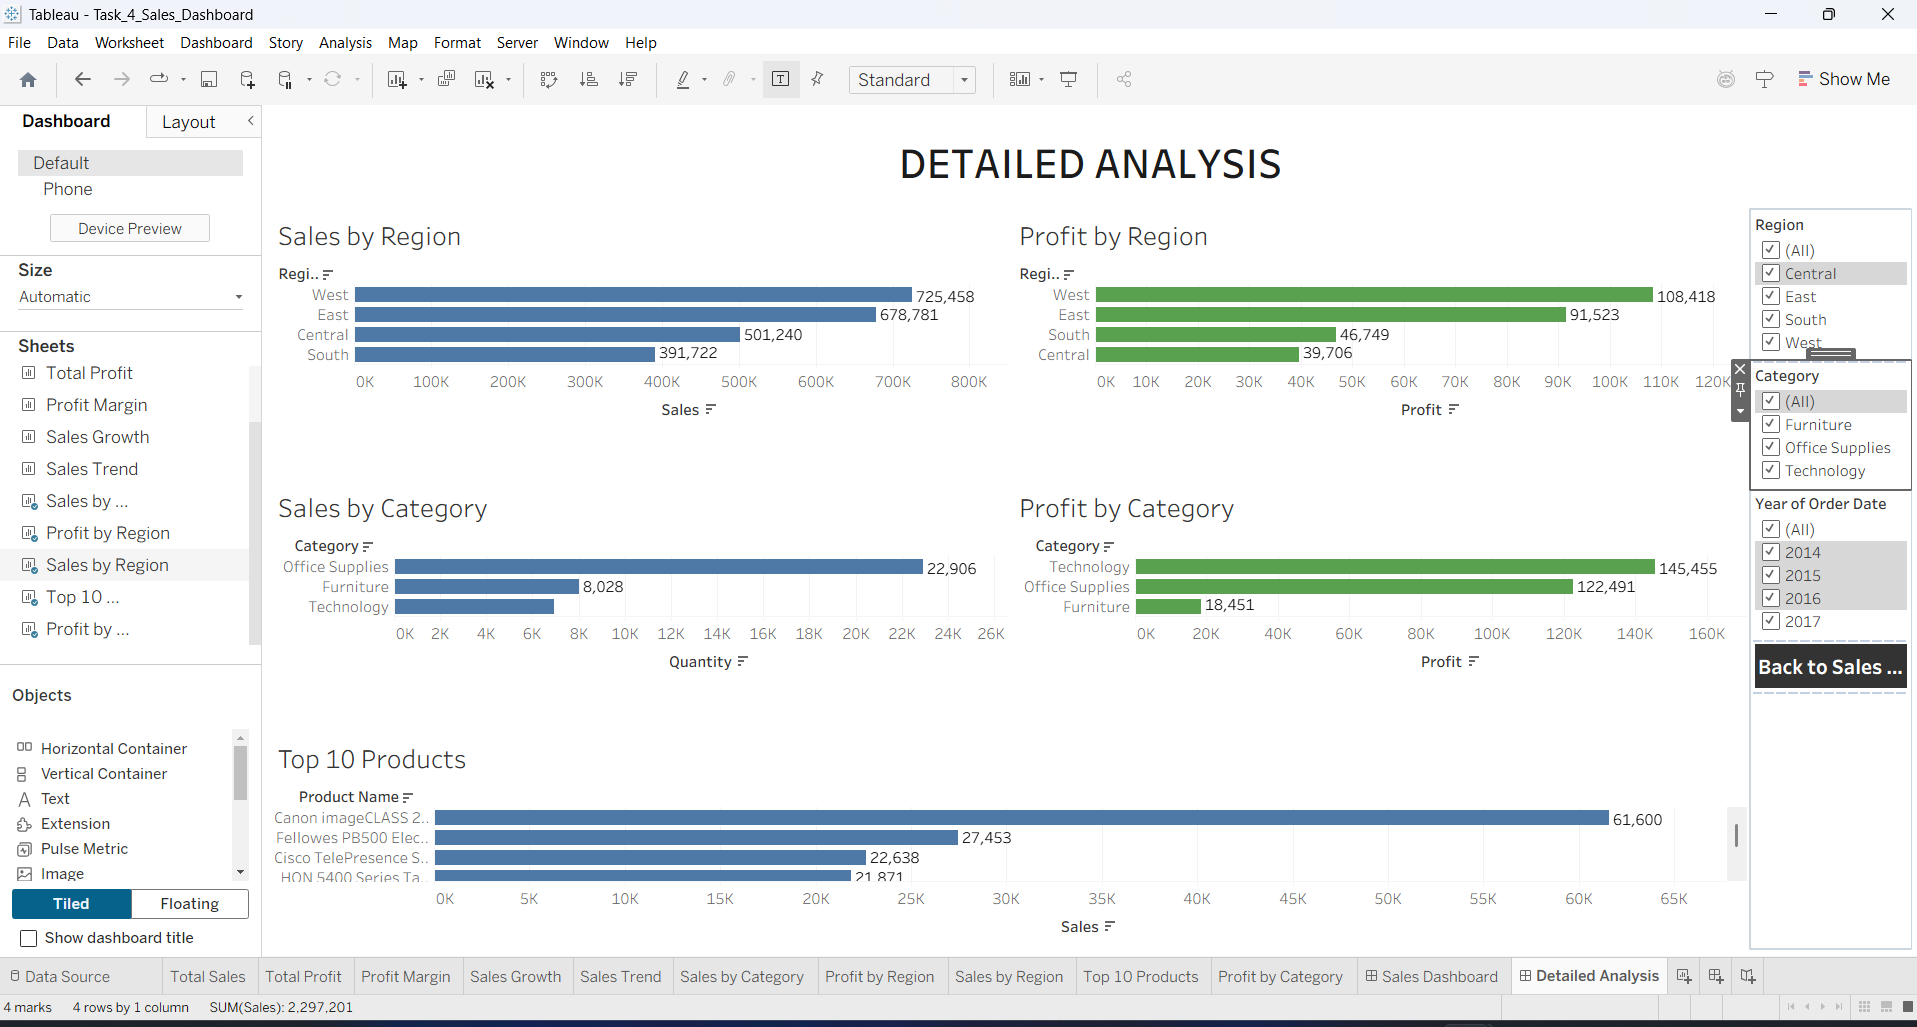

Layout of this report page (visuals, bound fields, positions):
{"tool":"tableau","page":{"name":"Detailed Analysis","canvas":[1000,1000],"units":"permille","ordinal":0},"visuals":[{"type":"text","box":[4.8,9.4,990.3,114]},{"type":"worksheet","title":"Sales by Region","mark":"Automatic","rows":["Region"],"cols":["Sales"],"box":[4.8,123.4,446.9,319.7]},{"type":"worksheet","title":"Profit by Region","mark":"Bar","rows":["Region"],"cols":["Profit"],"box":[451.7,123.4,446.9,319.7]},{"type":"filter","title":"Sales by Region","param":"[federated.1bbwyk90vp2ege18dg5my0c4wxmg].[none:Region:nk]","box":[898.6,123.4,96.6,177.4]},{"type":"filter","title":"Sales by Region","param":"[federated.1bbwyk90vp2ege18dg5my0c4wxmg].[none:Category:nk]","box":[898.6,300.8,96.6,150.4]},{"type":"worksheet","title":"Sales by Category","mark":"Bar","rows":["Category"],"cols":["Quantity"],"box":[4.8,443.1,446.9,295.4]},{"type":"worksheet","title":"Profit by Category","mark":"Automatic","rows":["Category"],"cols":["Profit"],"box":[451.7,443.1,446.9,295.4]},{"type":"filter","title":"Sales by Region","param":"[federated.1bbwyk90vp2ege18dg5my0c4wxmg].[yr:Order Date:ok]","box":[898.6,451.2,96.6,177.4]},{"type":"dashboard-object","box":[898.6,628.7,96.6,61.1]},{"type":"worksheet","title":"Top 10 Products","mark":"Automatic","rows":["Product Name"],"cols":["Sales"],"box":[4.8,738.4,893.8,252.2]}]}

Visuals, with their boxes on the dashboard's canvas, which has no fixed pixel size, in thousandths of its width and height (x1, y1, x2, y2). These are canvas units, not pixel positions in the 1917x1027 screenshot, which may show the page scaled, cropped or inside an application window:
text: pyautogui.locateOnScreen(5, 9, 995, 123)
"Sales by Region" worksheet: pyautogui.locateOnScreen(5, 123, 452, 443)
"Profit by Region" worksheet (Bar marks): pyautogui.locateOnScreen(452, 123, 899, 443)
"Sales by Region" filter: pyautogui.locateOnScreen(899, 123, 995, 301)
"Sales by Region" filter: pyautogui.locateOnScreen(899, 301, 995, 451)
"Sales by Category" worksheet (Bar marks): pyautogui.locateOnScreen(5, 443, 452, 738)
"Profit by Category" worksheet: pyautogui.locateOnScreen(452, 443, 899, 738)
"Sales by Region" filter: pyautogui.locateOnScreen(899, 451, 995, 629)
dashboard-object: pyautogui.locateOnScreen(899, 629, 995, 690)
"Top 10 Products" worksheet: pyautogui.locateOnScreen(5, 738, 899, 991)
